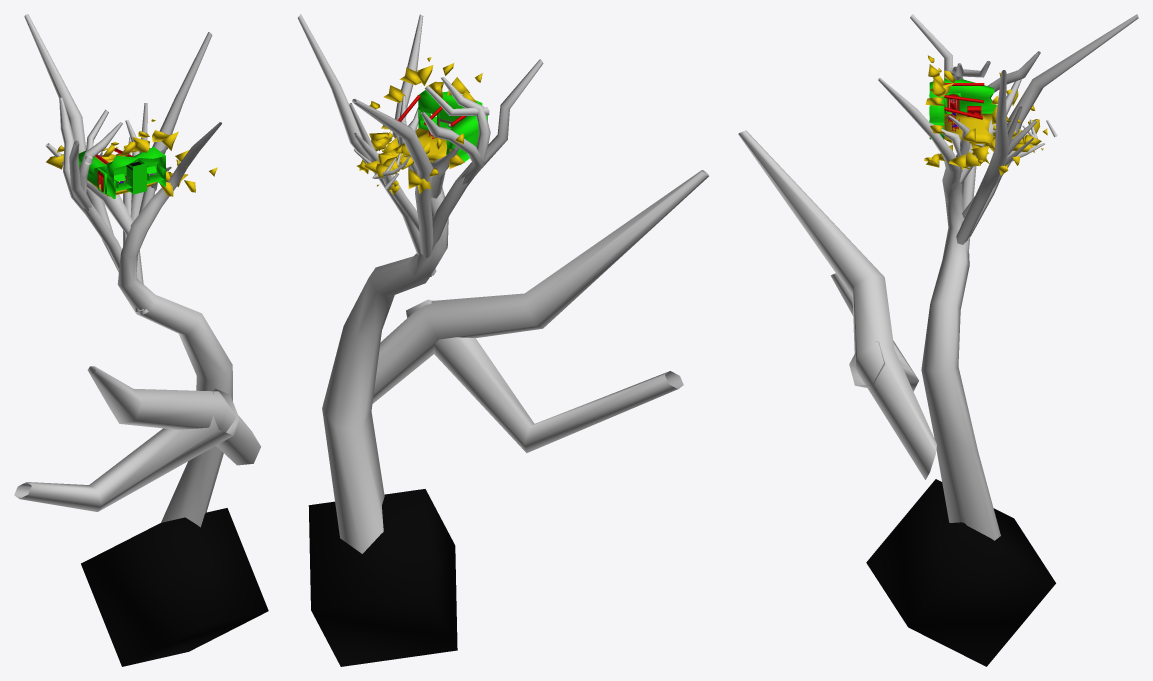
3 renders of one model, left to right at view 1: azimuth 30°, elevation 25°; view 2: azimuth 150°, elevation 25°; view 3: azimuth 270°, elevation 25°, orthographic. The views are drawn at different scales.
Visible parts, largest first — view 1: treeOfYore, fragment.039, nWall; view 2: treeOfYore, fragment.039, windowWallD.001, floor; view 3: treeOfYore, fragment.039, floor, windowWallD.001.
Part boxes in pixels (x1,y1,x2,y2): treeOfYore: (14, 14, 260, 527); fragment.039: (81, 508, 268, 666); nWall: (106, 146, 165, 178); treeOfYore: (297, 14, 708, 553); fragment.039: (308, 489, 457, 666); windowWallD.001: (446, 115, 487, 165); floor: (393, 128, 446, 162); treeOfYore: (738, 14, 1138, 540); fragment.039: (866, 479, 1055, 666); floor: (944, 113, 993, 143); windowWallD.001: (944, 78, 997, 113).
Size of the model in its own units: 4162 by 8359 by 4967.
